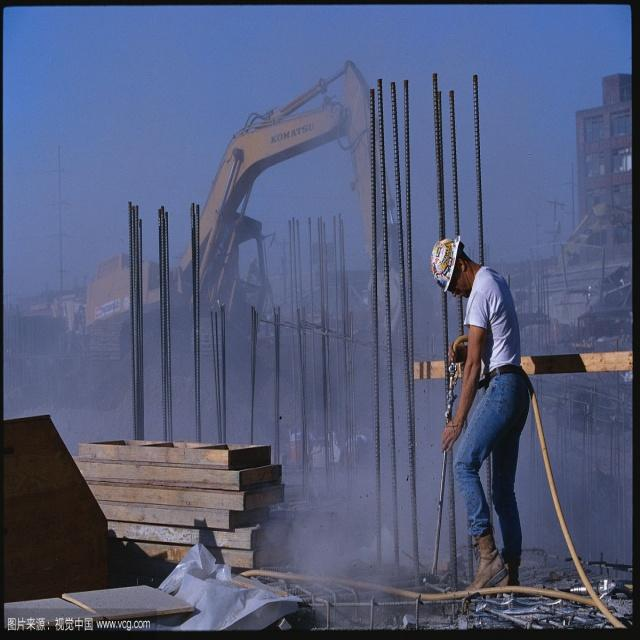helmet: (429, 309, 472, 400)
